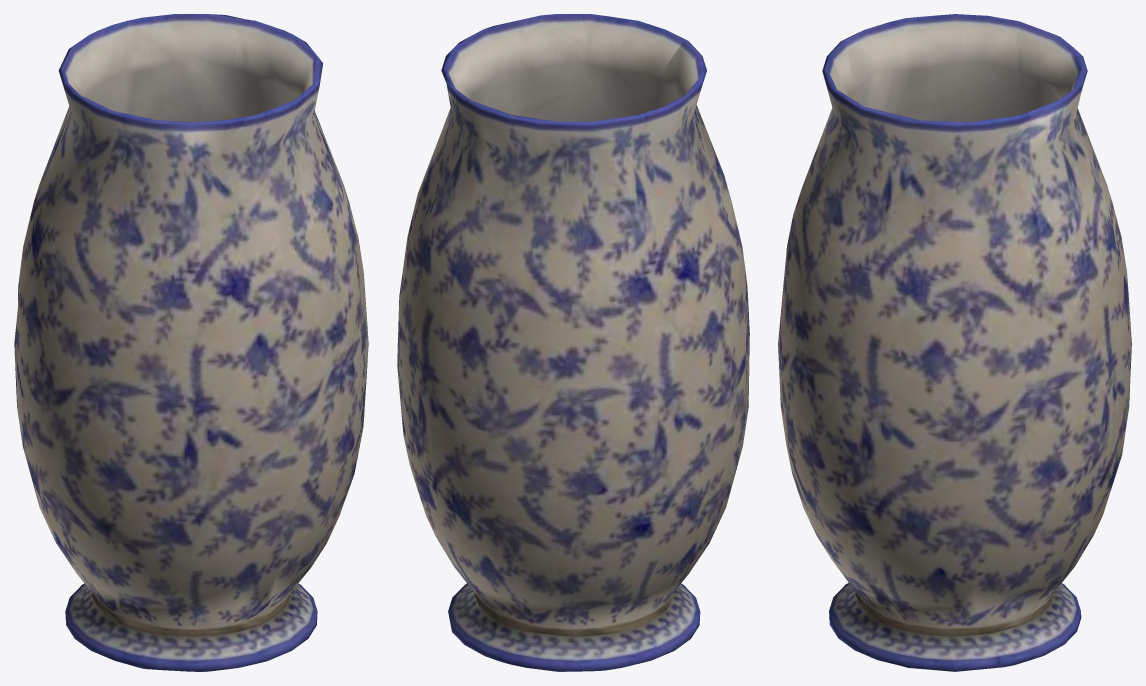
Rendered from antique_ceramic_vase_01.glb.
3 renders of one model, left to right at view 1: azimuth 30°, elevation 25°; view 2: azimuth 150°, elevation 25°; view 3: azimuth 270°, elevation 25°, orthographic.
Parts seen in each view (by area): view 1: antique_ceramic_vase_01; view 2: antique_ceramic_vase_01; view 3: antique_ceramic_vase_01.
Boxes of the visible parts, x1=… form: antique_ceramic_vase_01: x1=14, y1=14, x2=368, y2=671; antique_ceramic_vase_01: x1=397, y1=14, x2=749, y2=671; antique_ceramic_vase_01: x1=778, y1=14, x2=1131, y2=671.
Bounding box in the file's own units: 0.2549 × 0.4396 × 0.255.
Materials: 1 (1 with a texture image).
